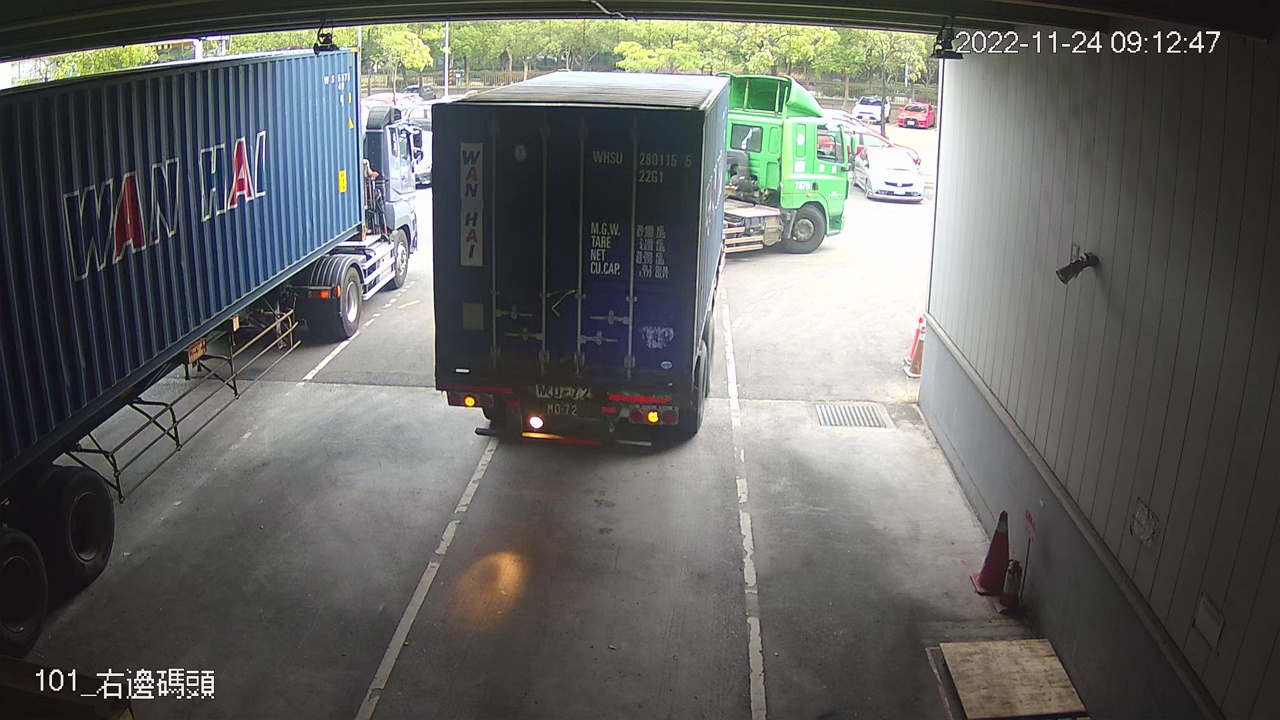container: (585, 144, 698, 188)
